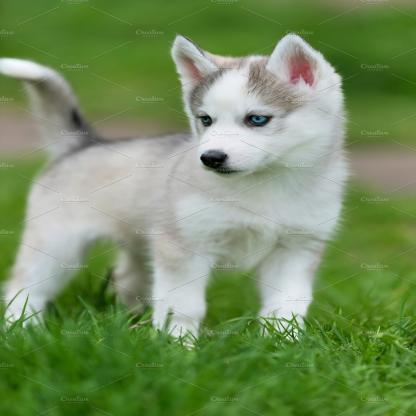husky: (0, 36, 366, 340)
